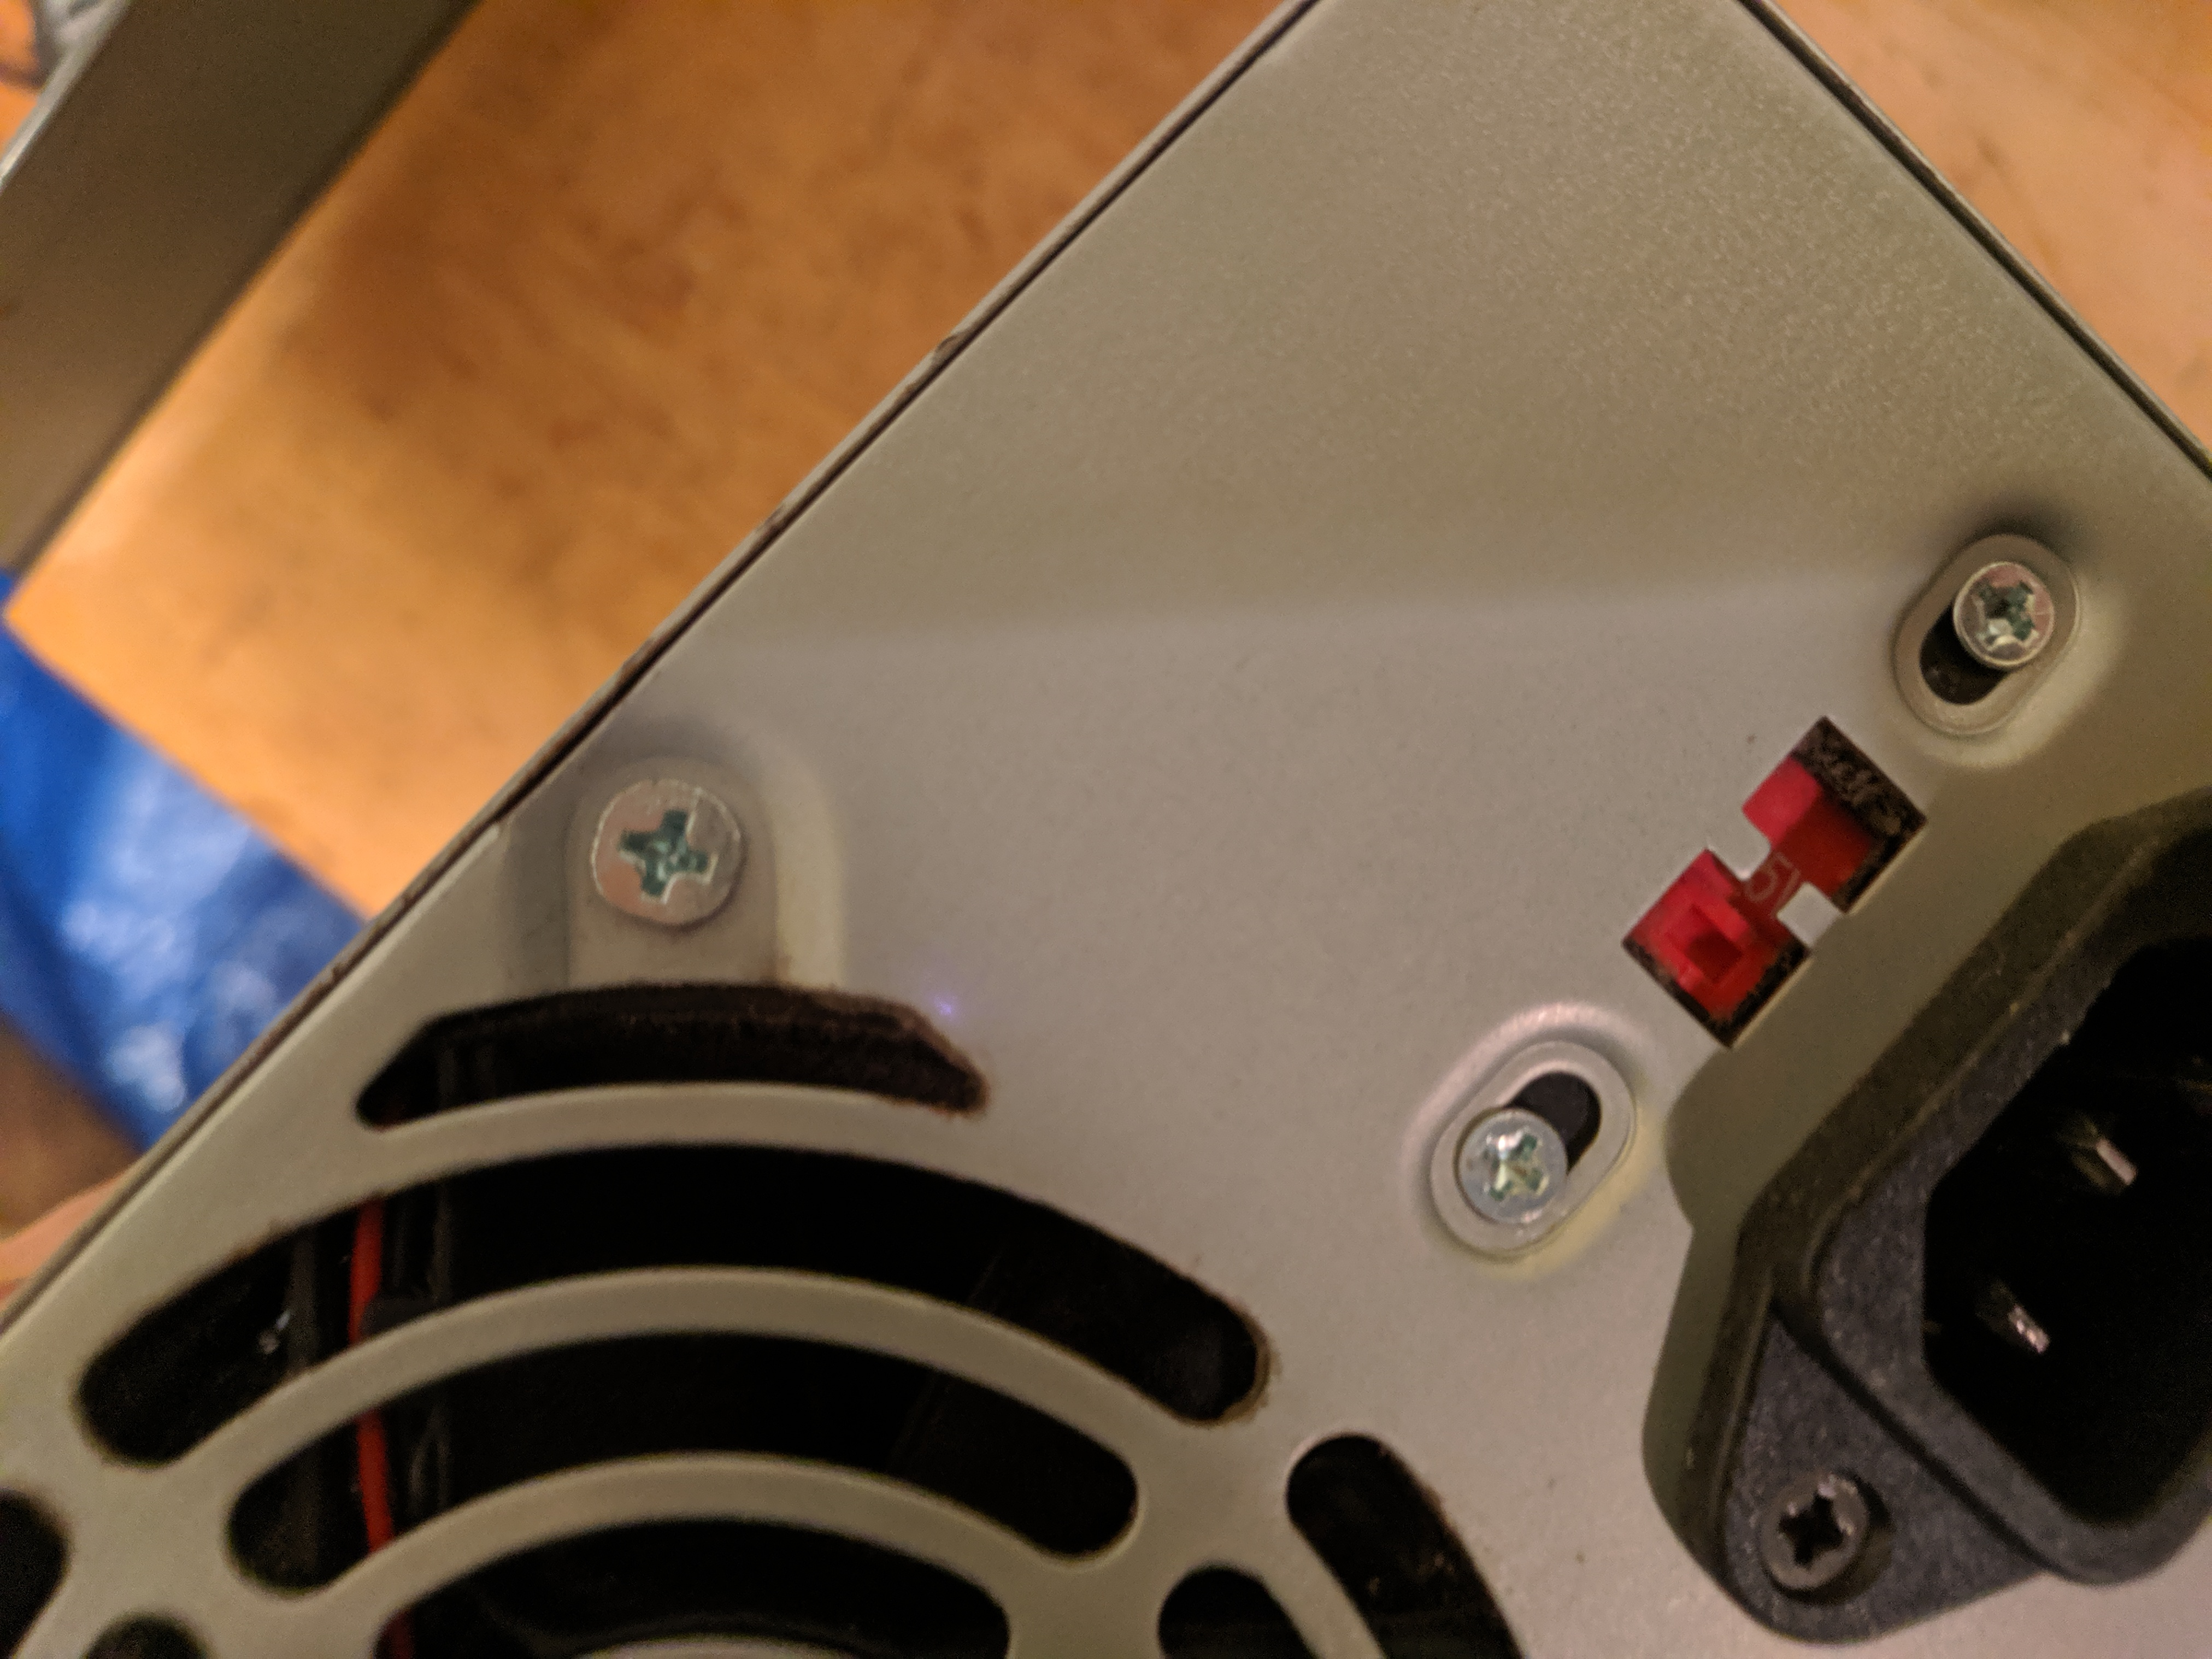cross_recessed_screw: (1334, 782, 1439, 887), (639, 615, 745, 714), (1885, 300, 1984, 403), (866, 1321, 965, 1422), (1991, 563, 2092, 660), (1249, 530, 1348, 615)
